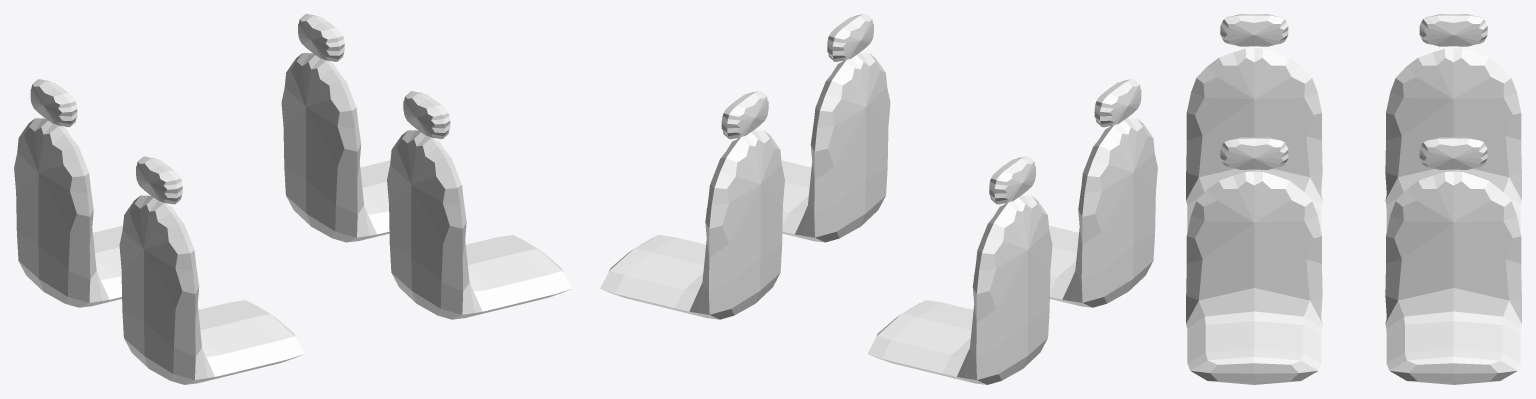
The model's file is Seats.glb.
3 renders of one model, left to right at view 1: azimuth 30°, elevation 25°; view 2: azimuth 150°, elevation 25°; view 3: azimuth 270°, elevation 25°, orthographic. The views are drawn at different scales.
Visible parts, largest first — view 1: Seat1.001; view 2: Seat1.001; view 3: Seat1.001.
Boxes of the visible parts, x1,y1,x2,y2 form: Seat1.001: (14, 14, 571, 384); Seat1.001: (600, 14, 1157, 384); Seat1.001: (1186, 14, 1521, 384).
Size of the model in its own units: 0.0613 by 0.0303 by 0.0472.
1 material, 1 textured.
